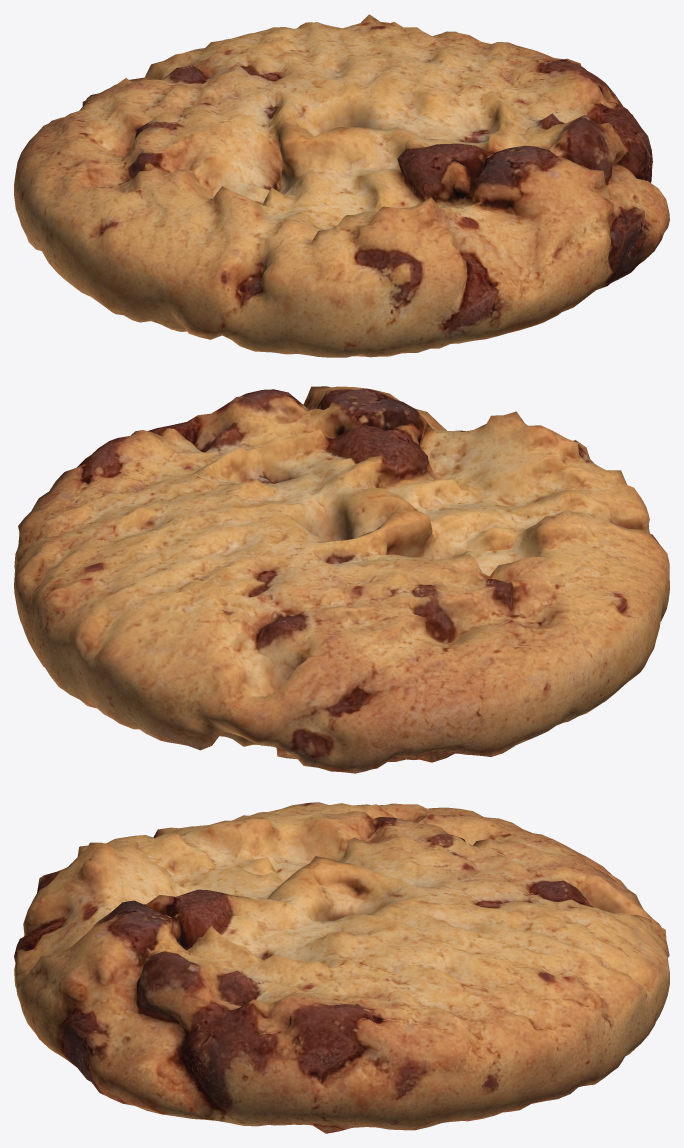
The picture shows the model from 3 angles, top to bottom: view 1: azimuth 30°, elevation 25°; view 2: azimuth 150°, elevation 25°; view 3: azimuth 270°, elevation 25°; orthographic projection. The views are drawn at different scales.
Parts seen in each view (by area): view 1: Choc Chip Cookie 3 Base LOD 2_Choc Chip Cookie 3 Base LOD 2_; view 2: Choc Chip Cookie 3 Base LOD 2_Choc Chip Cookie 3 Base LOD 2_; view 3: Choc Chip Cookie 3 Base LOD 2_Choc Chip Cookie 3 Base LOD 2_.
Part boxes in pixels (x1,y1,x2,y2): Choc Chip Cookie 3 Base LOD 2_Choc Chip Cookie 3 Base LOD 2_: (14, 14, 669, 357); Choc Chip Cookie 3 Base LOD 2_Choc Chip Cookie 3 Base LOD 2_: (14, 386, 669, 773); Choc Chip Cookie 3 Base LOD 2_Choc Chip Cookie 3 Base LOD 2_: (14, 802, 669, 1133).
Size of the model in its own units: 0.0482 by 0.0117 by 0.0487.
1 material, 1 textured.
